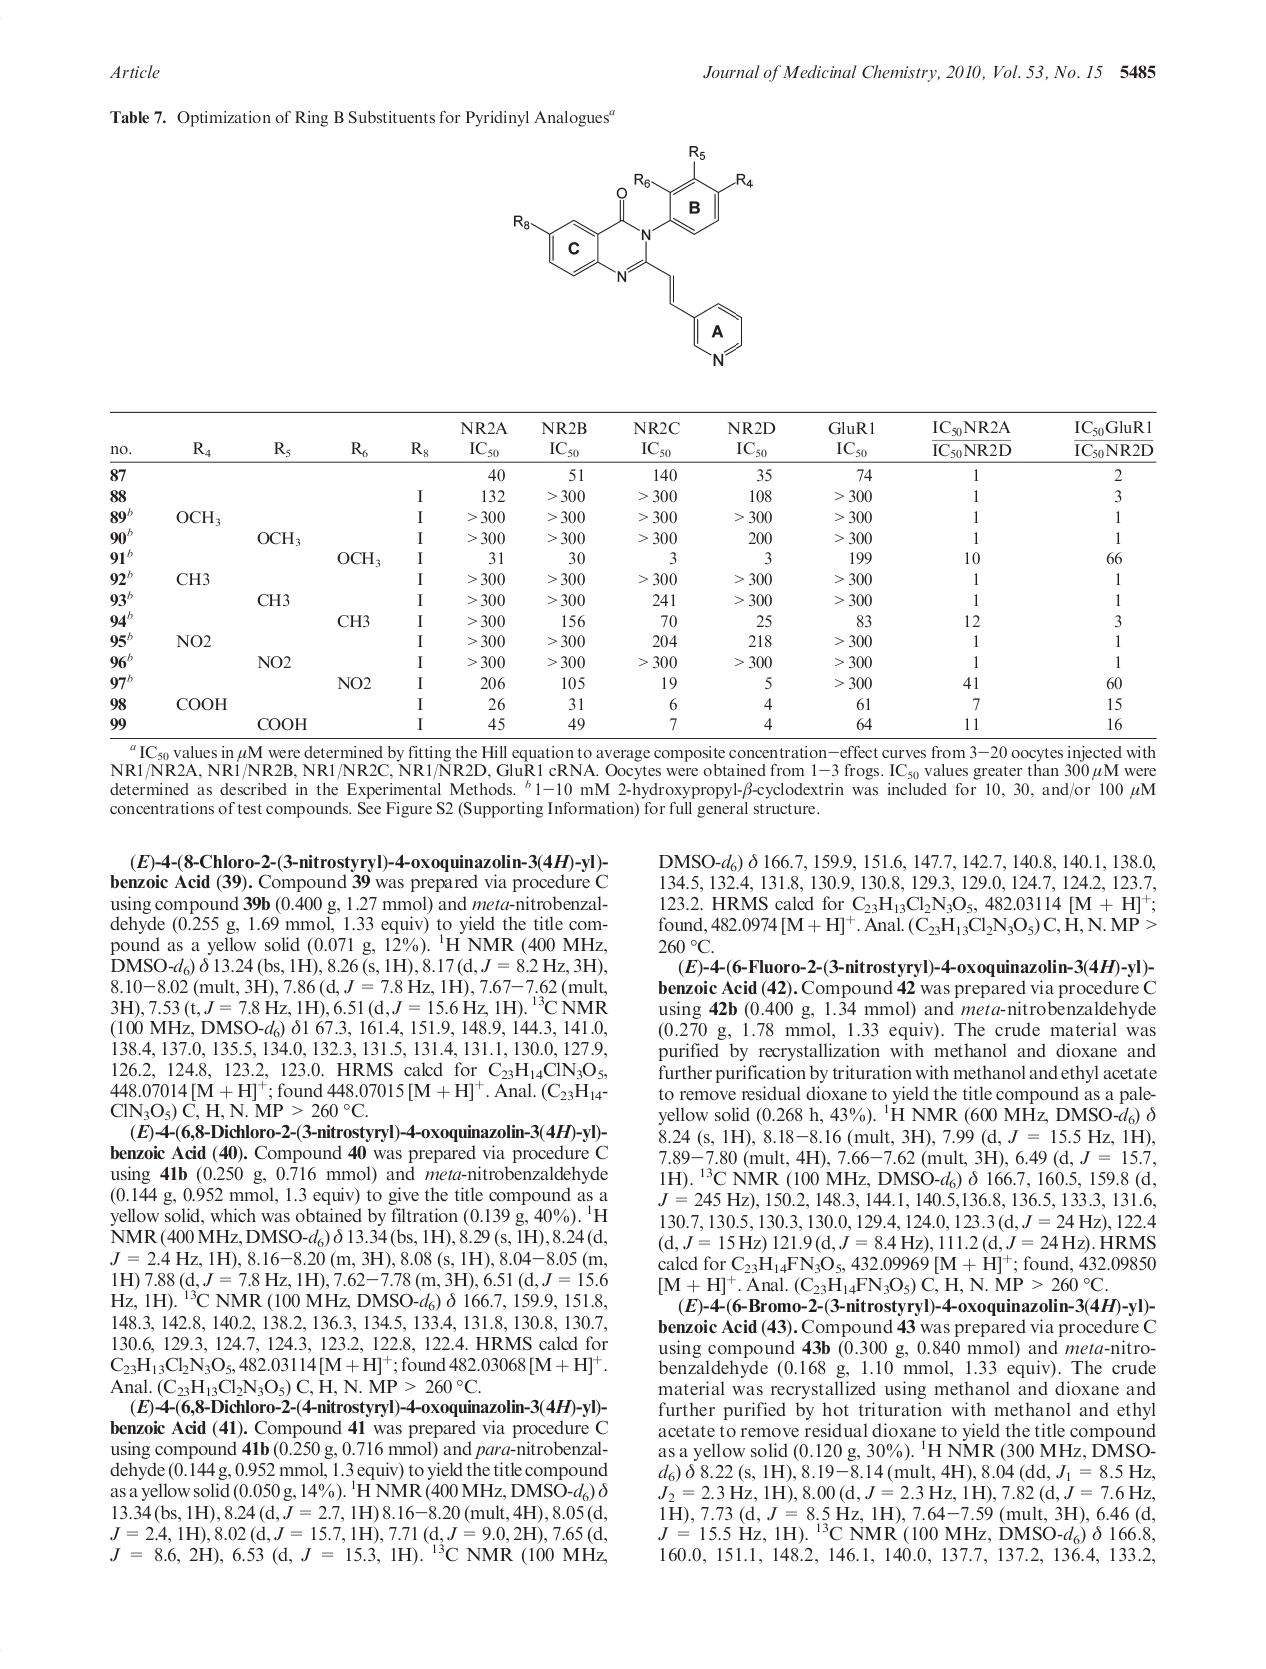exist_molecular: (508, 136, 761, 374)
